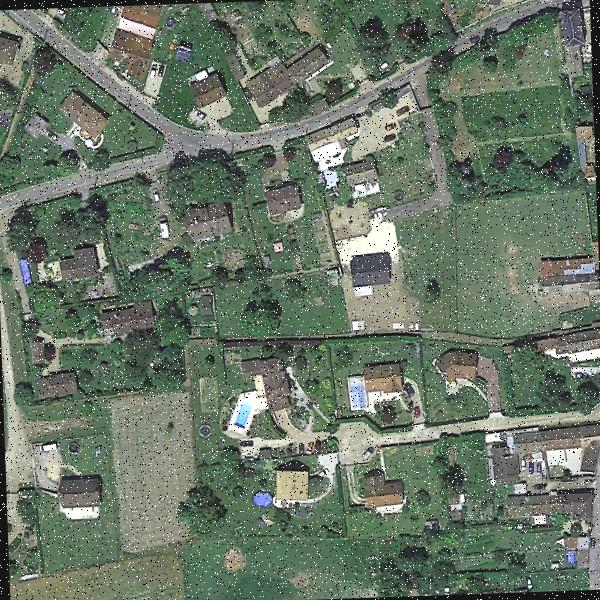Buildings: (252, 54, 328, 87), (560, 6, 592, 77), (249, 357, 289, 406), (66, 94, 109, 130), (366, 360, 406, 398), (359, 476, 406, 508), (57, 475, 102, 508), (348, 255, 394, 286), (102, 304, 151, 331), (188, 74, 224, 108), (280, 462, 312, 500), (263, 185, 302, 214), (0, 24, 21, 77), (66, 250, 103, 280), (188, 212, 230, 236), (36, 375, 82, 396), (446, 355, 480, 379), (346, 162, 380, 183)
